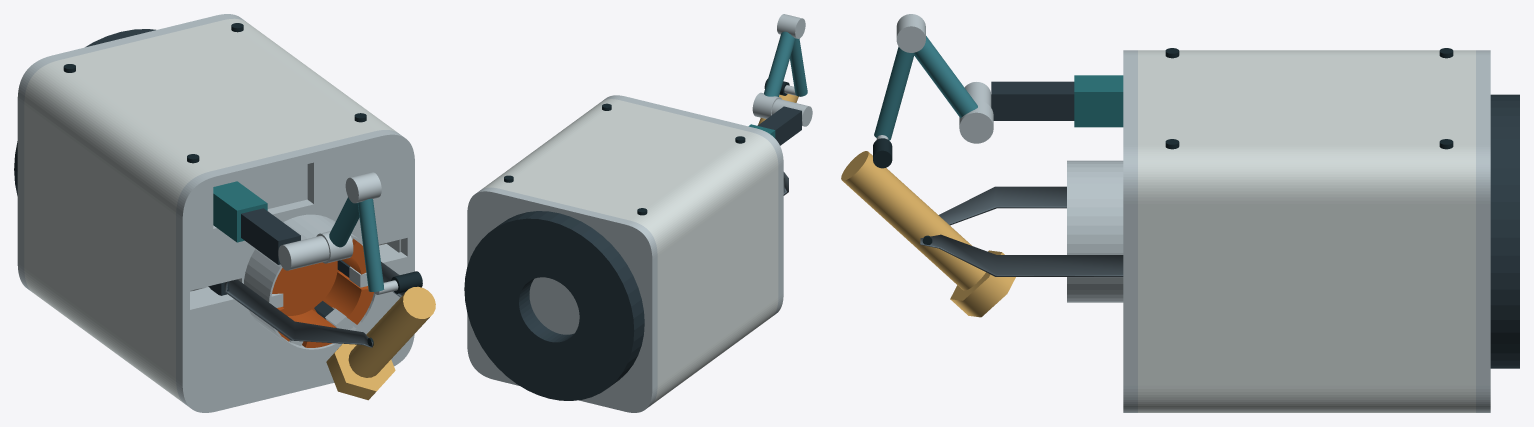
Rendered from m8-r09-gripper.glb.
3 views of the same model, side by side, from view 1: azimuth 30°, elevation 25°; view 2: azimuth 150°, elevation 25°; view 3: azimuth 270°, elevation 25° (orthographic). The views are drawn at different scales.
Visible parts, largest first — view 1: cover-sleeve, front-plate-with-ports, held-bolt, rear-bulkhead, slim-nose-tube, tweezer-blade, feed-yoke, chuck-back-disc, thumb-drive-envelope, thumb-column, thumb-distal, chuck-web-5 (+8 smaller); view 2: cover-sleeve, robot-adapter-ring, rear-bulkhead, front-plate-with-ports, thumb-proximal, thumb-column, thumb-distal, thumb-joint-2, thumb-joint-1, thumb-base-axle; view 3: cover-sleeve, robot-adapter-ring, held-bolt, slim-nose-tube, tweezer-blade (×2), front-plate-with-ports, rear-bulkhead, thumb-column, thumb-drive-envelope, thumb-proximal, thumb-distal, thumb-joint-2 (+2 smaller).
Boxes of the visible parts, x1,y1,x2,y2 form: cover-sleeve: [24, 18, 401, 402]; front-plate-with-ports: [176, 130, 414, 412]; held-bolt: [326, 286, 435, 400]; rear-bulkhead: [17, 14, 245, 292]; slim-nose-tube: [244, 214, 376, 351]; tweezer-blade: [224, 279, 372, 347]; feed-yoke: [190, 164, 400, 303]; chuck-back-disc: [282, 261, 339, 315]; thumb-drive-envelope: [213, 181, 267, 242]; thumb-column: [241, 208, 300, 264]; thumb-distal: [357, 198, 384, 291]; chuck-web-5: [324, 271, 373, 324]; cover-sleeve: [482, 99, 778, 404]; robot-adapter-ring: [464, 211, 644, 400]; rear-bulkhead: [467, 187, 657, 412]; front-plate-with-ports: [603, 95, 783, 316]; thumb-proximal: [764, 31, 795, 96]; thumb-column: [757, 106, 801, 145]; thumb-distal: [790, 38, 807, 96]; thumb-joint-2: [777, 14, 805, 38]; thumb-joint-1: [752, 92, 781, 118]; thumb-base-axle: [771, 99, 812, 126]; cover-sleeve: [1138, 50, 1475, 412]; robot-adapter-ring: [1490, 94, 1519, 368]; held-bolt: [841, 151, 1015, 317]; slim-nose-tube: [1067, 160, 1123, 302]; tweezer-blade (×2): [920, 186, 1123, 276]; front-plate-with-ports: [1123, 50, 1137, 412]; rear-bulkhead: [1476, 50, 1490, 412]; thumb-column: [991, 81, 1074, 120]; thumb-drive-envelope: [1074, 75, 1123, 127]; thumb-proximal: [913, 36, 977, 117]; thumb-distal: [874, 46, 913, 140]; thumb-joint-2: [896, 14, 925, 52].
Size of the model in its own units: 0.061 by 0.0734 by 0.1387.
